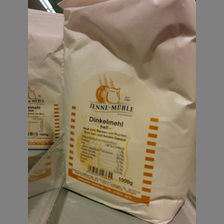flour: (58, 2, 196, 224)
